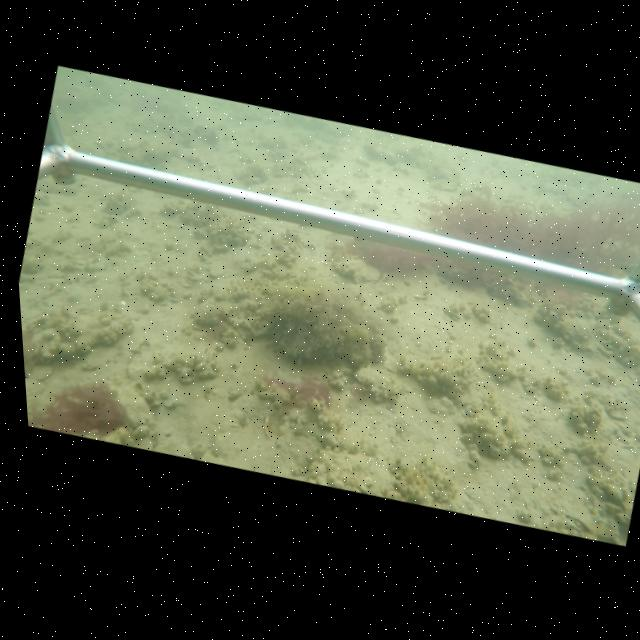Oyster-Closed: (331, 257, 382, 282)
Oyster-Indeterminate: (310, 447, 398, 498), (353, 366, 399, 395)
